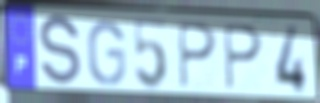4: (273, 24, 309, 97)
5: (132, 17, 170, 93)
G: (86, 18, 128, 88)
P: (221, 22, 265, 93), (175, 20, 219, 91)
S: (38, 13, 83, 91)
